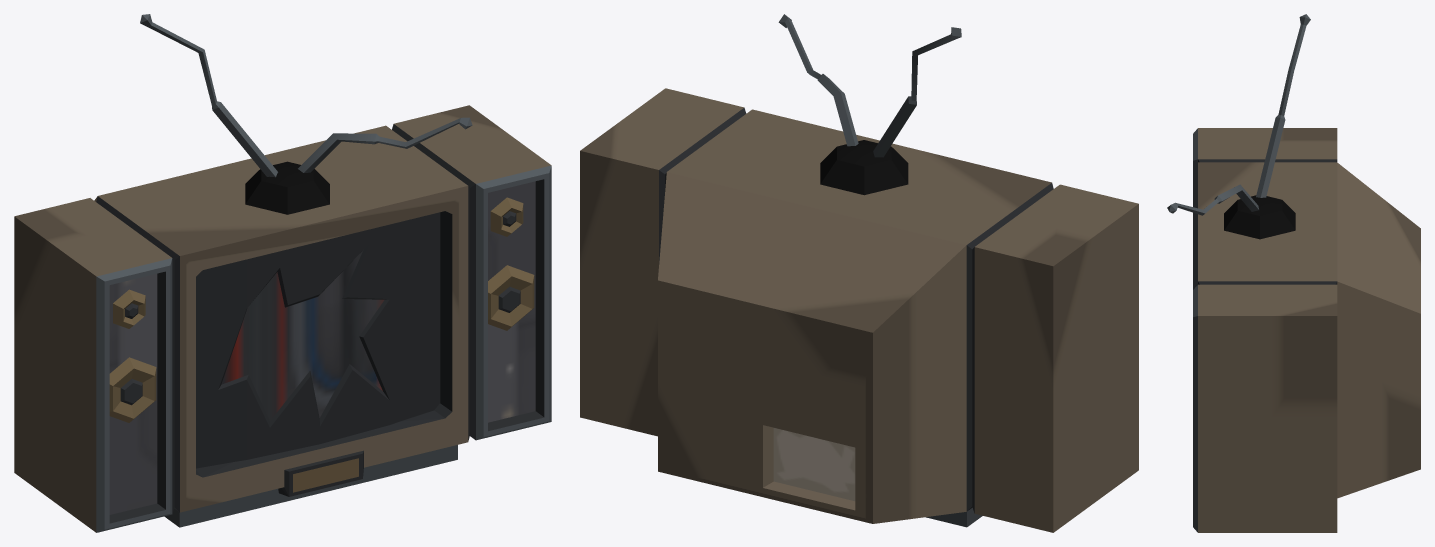
Rendered from SM_Prop_Old_Television_02.fbx.
The picture shows the model from 3 angles, left to right: view 1: azimuth 30°, elevation 25°; view 2: azimuth 150°, elevation 25°; view 3: azimuth 270°, elevation 25°; orthographic projection. The views are drawn at different scales.
Visible parts, largest first — view 1: SM_Prop_Old_Television_02; view 2: SM_Prop_Old_Television_02; view 3: SM_Prop_Old_Television_02.
Part boxes in pixels (x1,y1,x2,y2): SM_Prop_Old_Television_02: [14, 14, 551, 532]; SM_Prop_Old_Television_02: [580, 14, 1138, 532]; SM_Prop_Old_Television_02: [1167, 14, 1420, 532].
Size of the model in its own units: 131 by 128 by 74.75.
